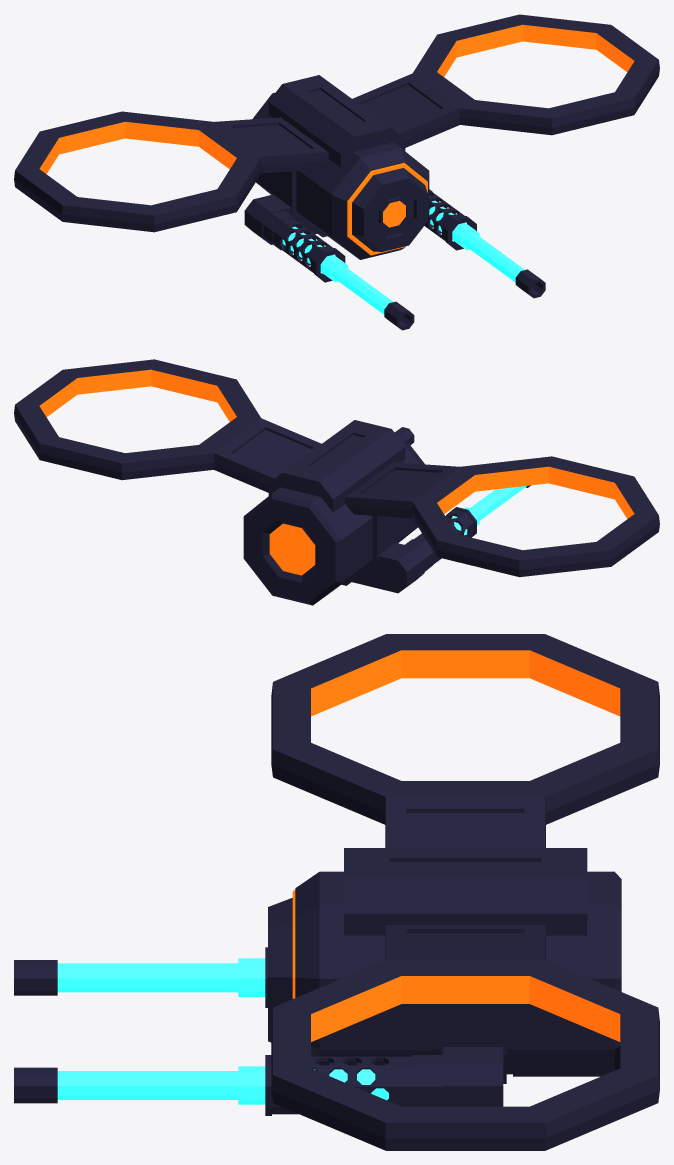
File: Drone_03.fbx
3 views of the same model, one above another, from view 1: azimuth 30°, elevation 25°; view 2: azimuth 150°, elevation 25°; view 3: azimuth 270°, elevation 25° (orthographic). The views are drawn at different scales.
Visible parts, largest first — view 1: Drone_03; view 2: Drone_03; view 3: Drone_03.
Boxes of the visible parts, <box> form: Drone_03: <box>14,14,659,330</box>; Drone_03: <box>14,359,659,605</box>; Drone_03: <box>14,634,659,1150</box>.
Size of the model in its own units: 1970 by 380 by 1098.
